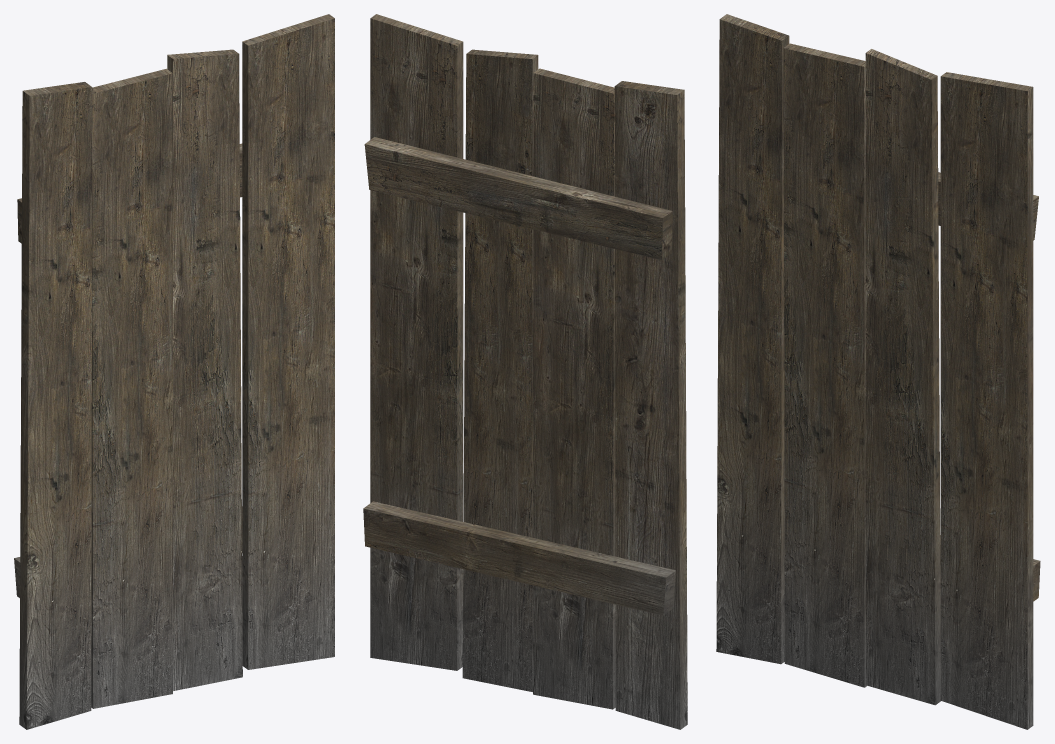
Rendered from House_02_Doors2_LOD1.fbx.
3 views of the same model, side by side, from view 1: azimuth 30°, elevation 25°; view 2: azimuth 150°, elevation 25°; view 3: azimuth 330°, elevation 25° (orthographic).
Parts seen in each view (by area): view 1: polySurface1100; view 2: polySurface1100; view 3: polySurface1100.
Boxes of the visible parts, x1=… form: polySurface1100: x1=14, y1=14, x2=334, y2=729; polySurface1100: x1=363, y1=14, x2=687, y2=729; polySurface1100: x1=716, y1=14, x2=1040, y2=729.
Bounding box in the file's own units: 0.9132 × 1.8 × 0.0869.
